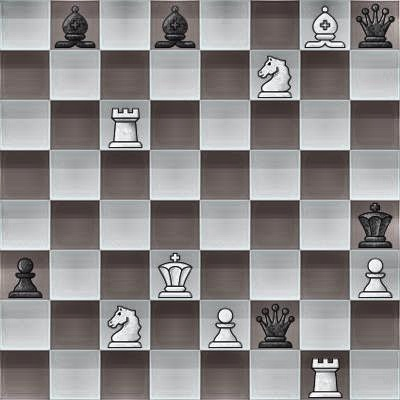black-bishop: (50, 0, 100, 50), (150, 0, 200, 50)
black-king: (350, 200, 400, 250)
black-pawn: (0, 250, 50, 300)
black-queen: (350, 0, 400, 50), (250, 300, 300, 350)
white-bishop: (300, 0, 350, 50)
white-king: (150, 250, 200, 300)
white-knight: (250, 50, 300, 100), (100, 300, 150, 350)
white-pawn: (350, 250, 400, 300), (200, 300, 250, 350)
white-rook: (100, 100, 150, 150), (300, 350, 350, 400)
